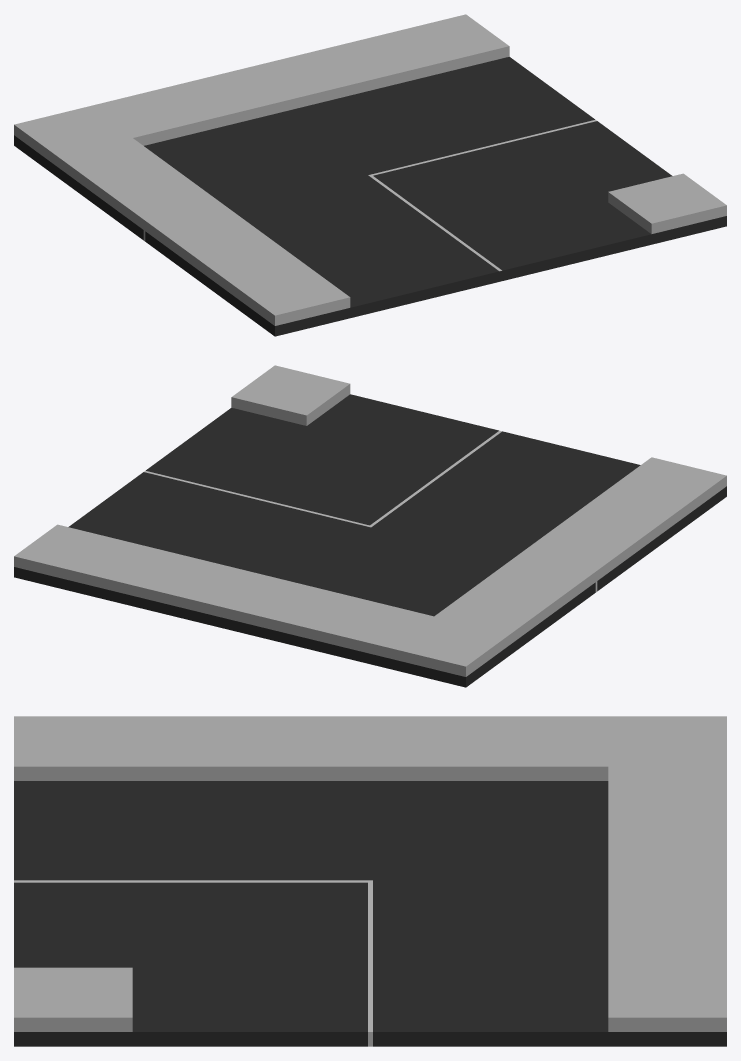
The model's file is Corner.glb.
The picture shows the model from 3 angles, top to bottom: view 1: azimuth 30°, elevation 25°; view 2: azimuth 150°, elevation 25°; view 3: azimuth 270°, elevation 25°; orthographic projection. The views are drawn at different scales.
Visible parts, largest first — view 1: Corner; view 2: Corner; view 3: Corner.
Part boxes in pixels (left/top/right/bottom): Corner: left=14, top=14, right=726, bottom=336; Corner: left=14, top=365, right=726, bottom=687; Corner: left=14, top=716, right=726, bottom=1046.
Size of the model in its own units: 9 by 0.4 by 9.
Materials: 1 (1 with a texture image).
